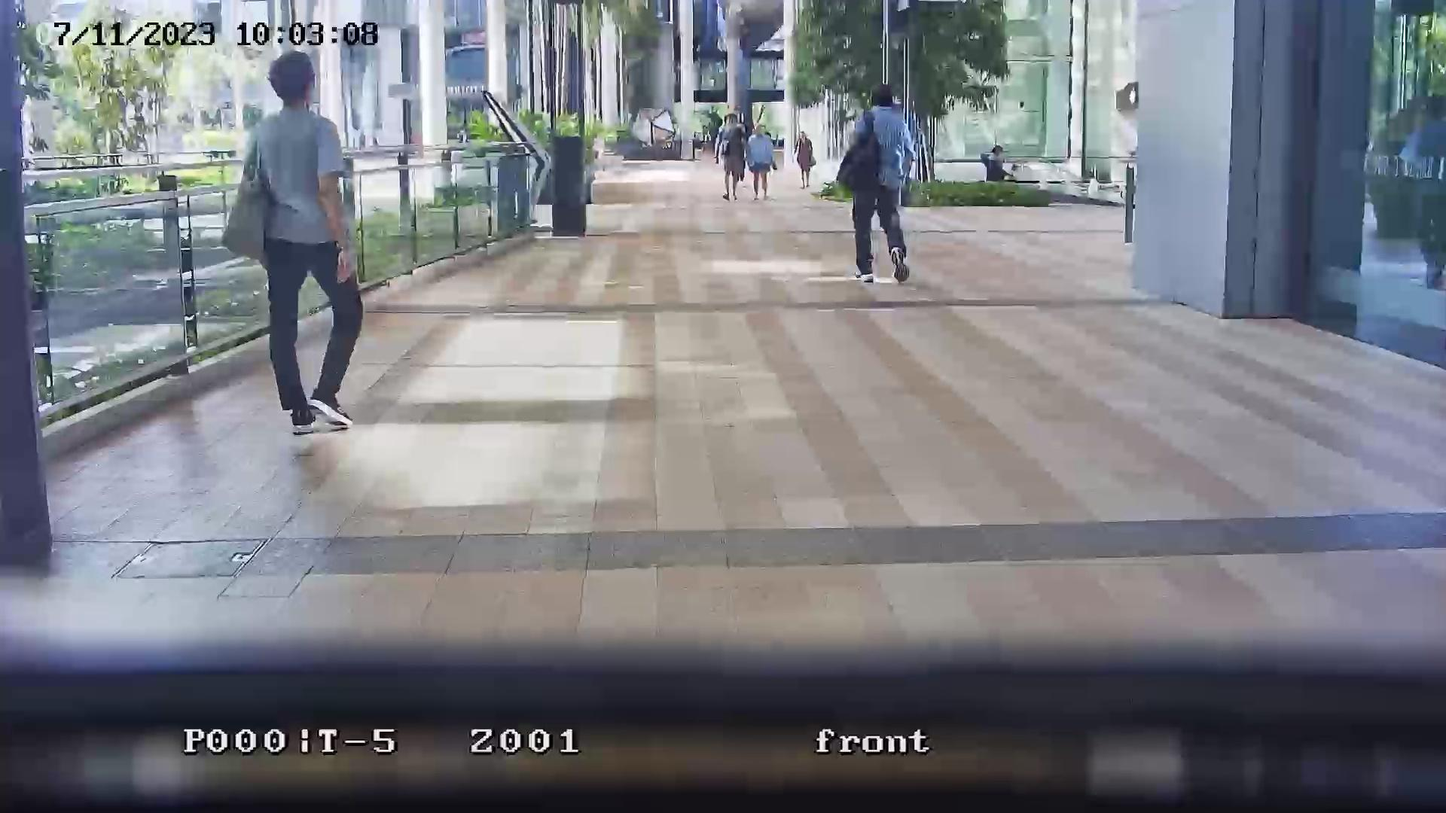person: (239, 49, 364, 437), (837, 82, 916, 285), (1401, 94, 1445, 291), (719, 110, 747, 201), (745, 123, 776, 199), (795, 131, 815, 190), (981, 144, 1011, 181)
